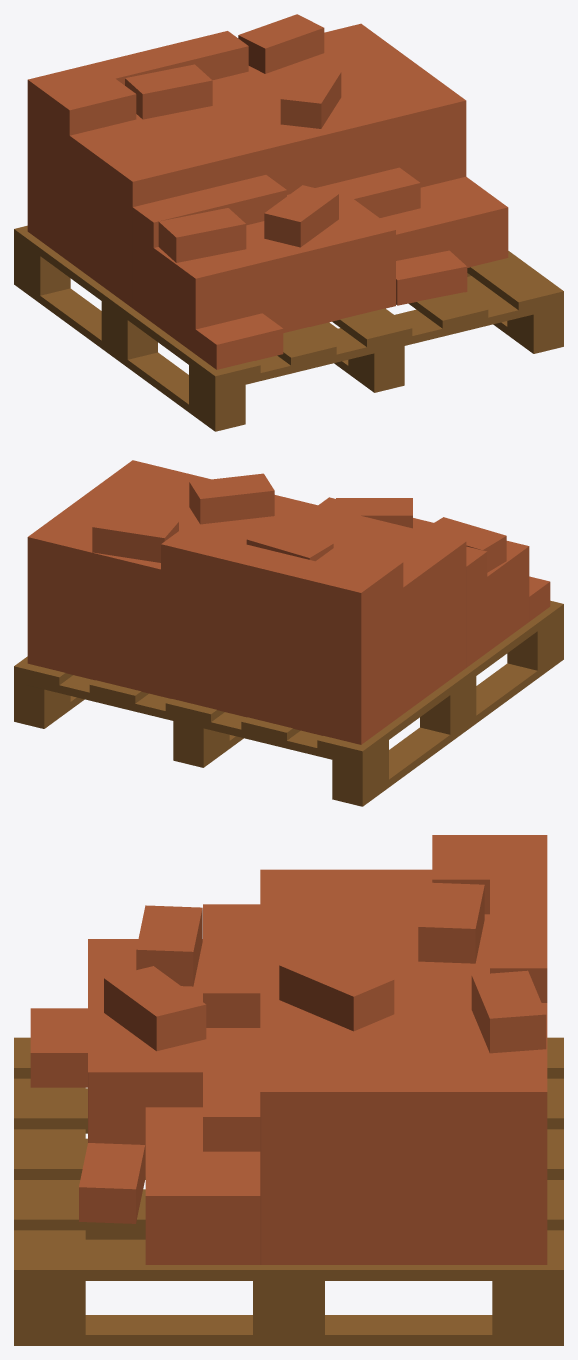
File: BrickPalette.fbx
The picture shows the model from 3 angles, top to bottom: view 1: azimuth 30°, elevation 25°; view 2: azimuth 150°, elevation 25°; view 3: azimuth 270°, elevation 25°; orthographic projection. The views are drawn at different scales.
Visible parts, largest first — view 1: BrickPalette; view 2: BrickPalette; view 3: BrickPalette.
Boxes of the visible parts, x1=… form: BrickPalette: x1=14, y1=14, x2=563, y2=431; BrickPalette: x1=14, y1=460, x2=563, y2=806; BrickPalette: x1=14, y1=835, x2=563, y2=1345.
Size of the model in its own units: 115 by 65.4 by 115.
